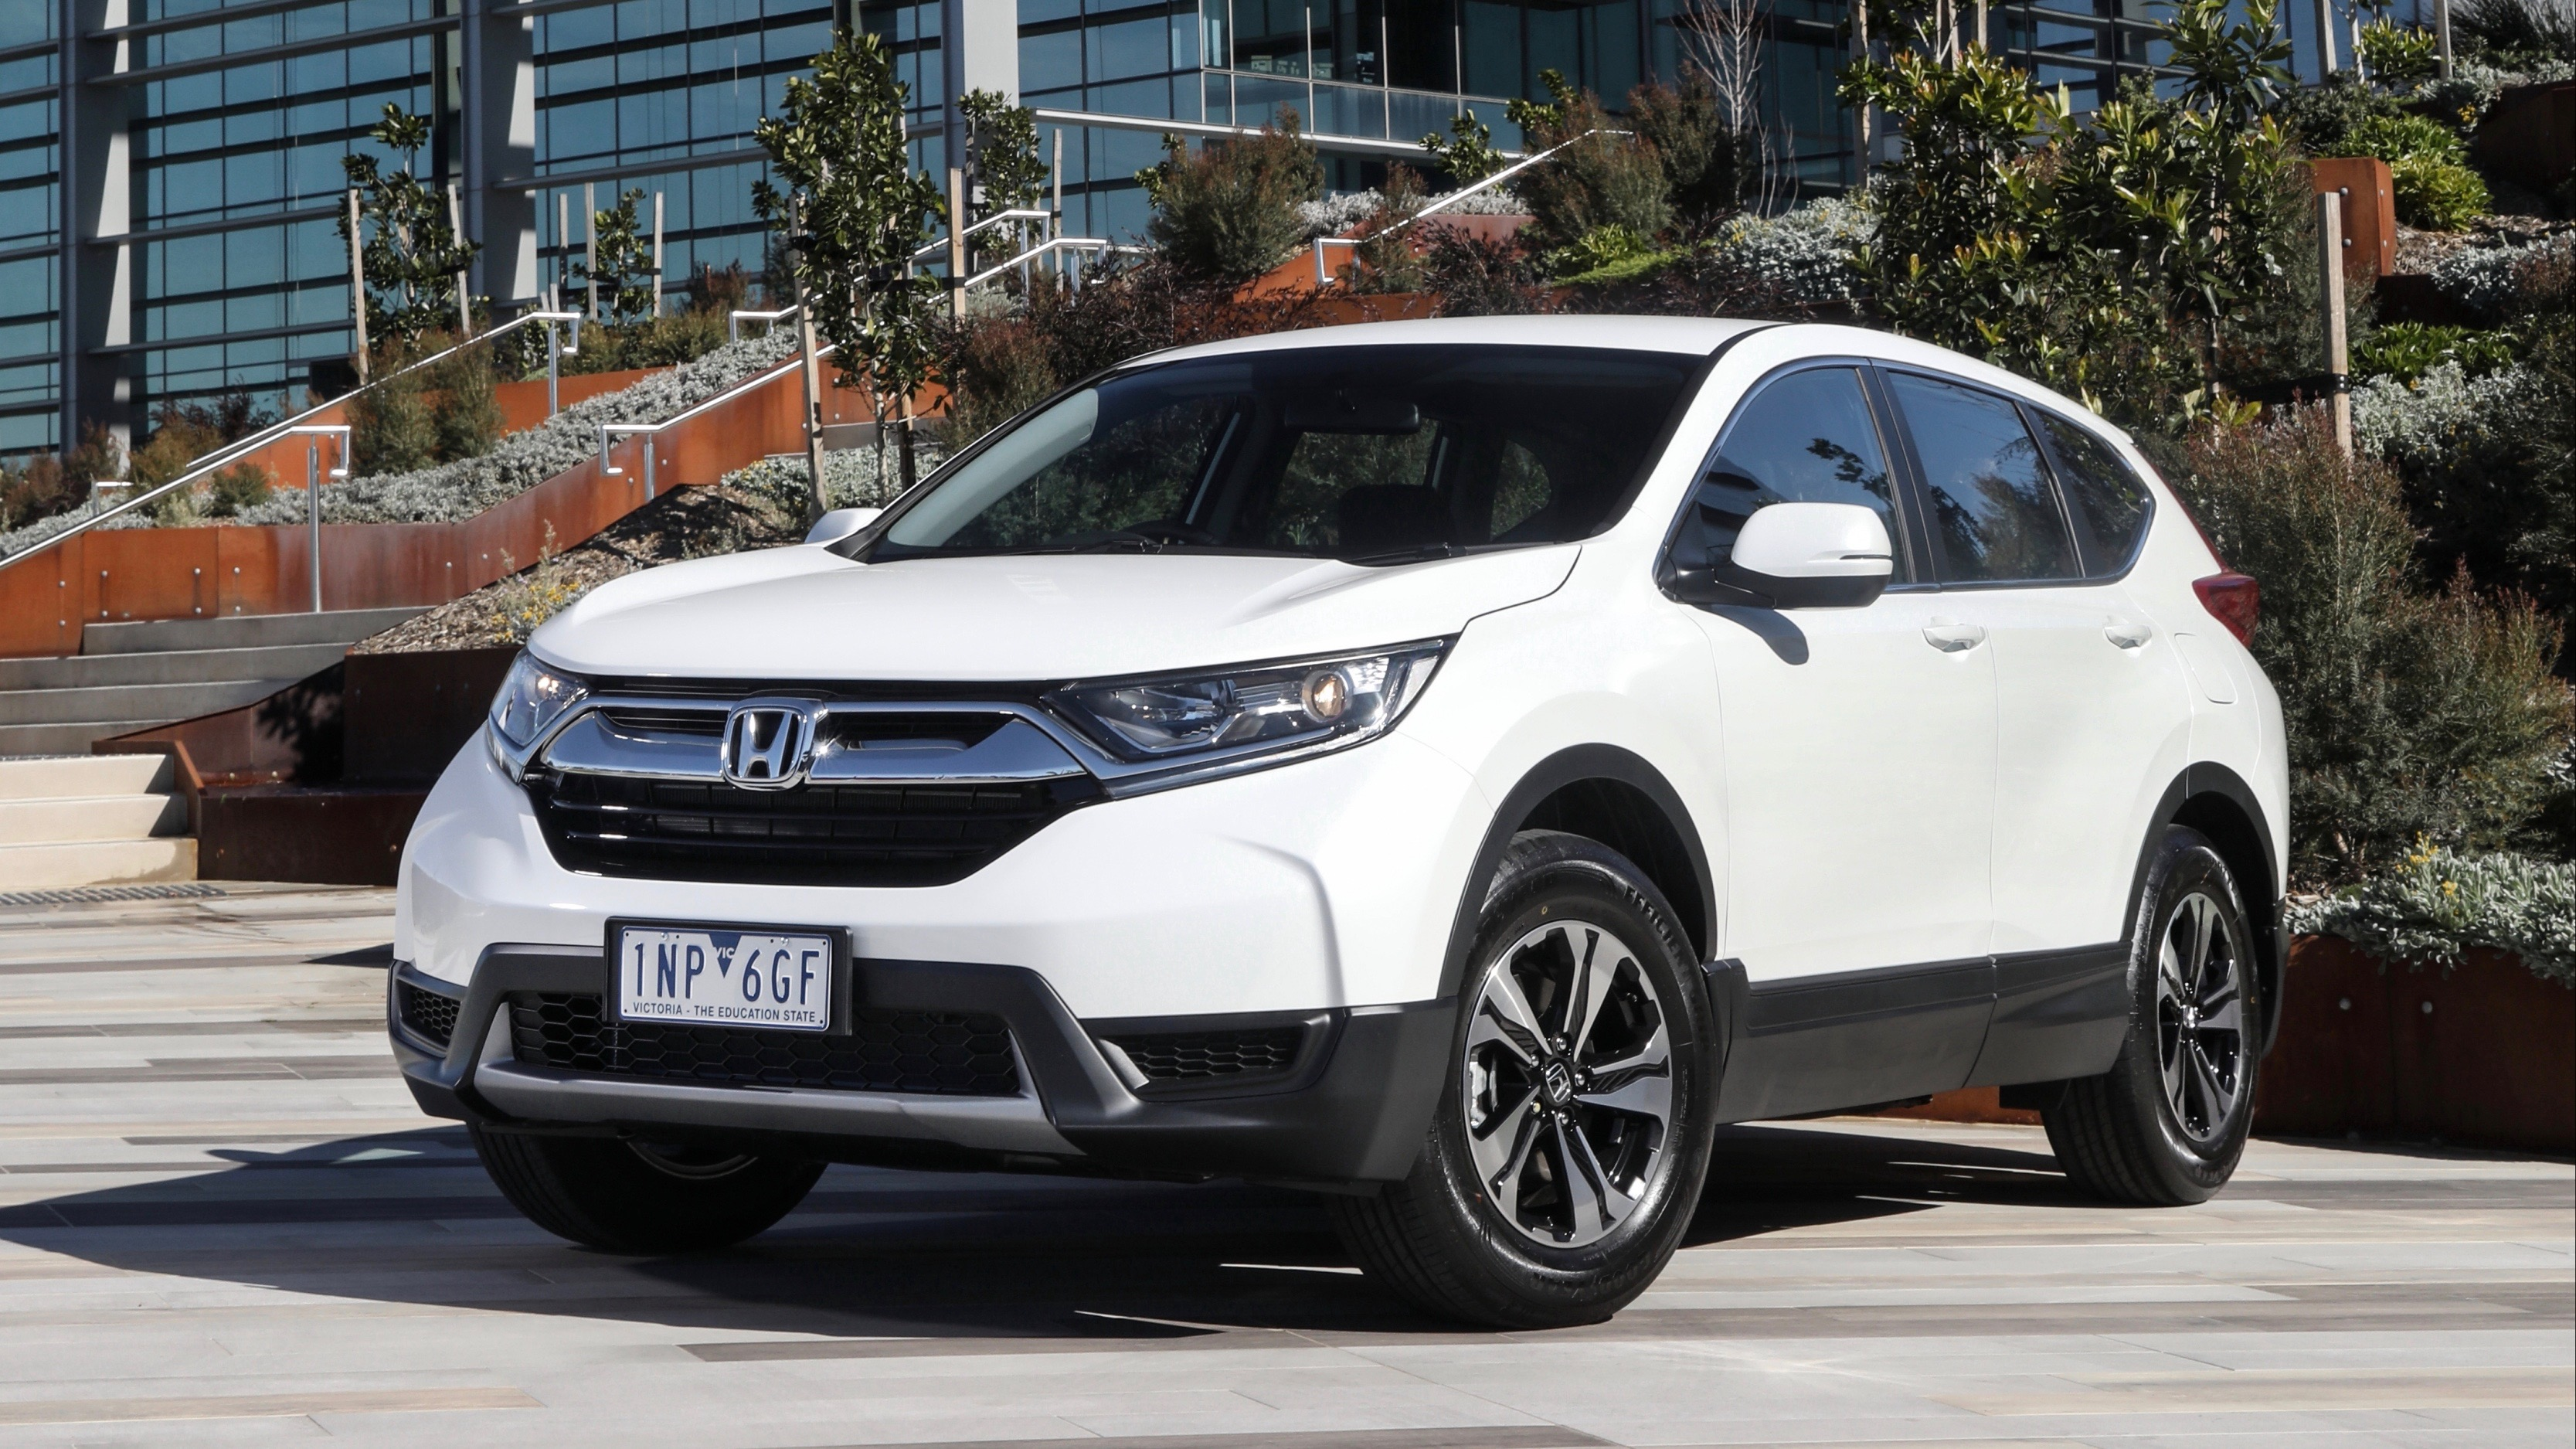crv: (372, 276, 2332, 1346)
